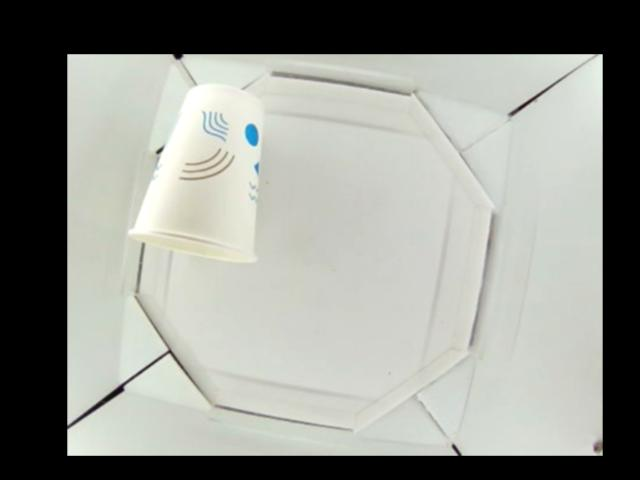Cup: (130, 82, 267, 266)
